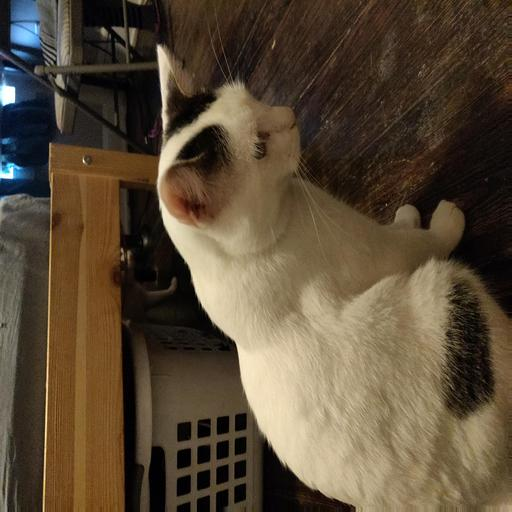cat: (124, 63, 490, 429)
